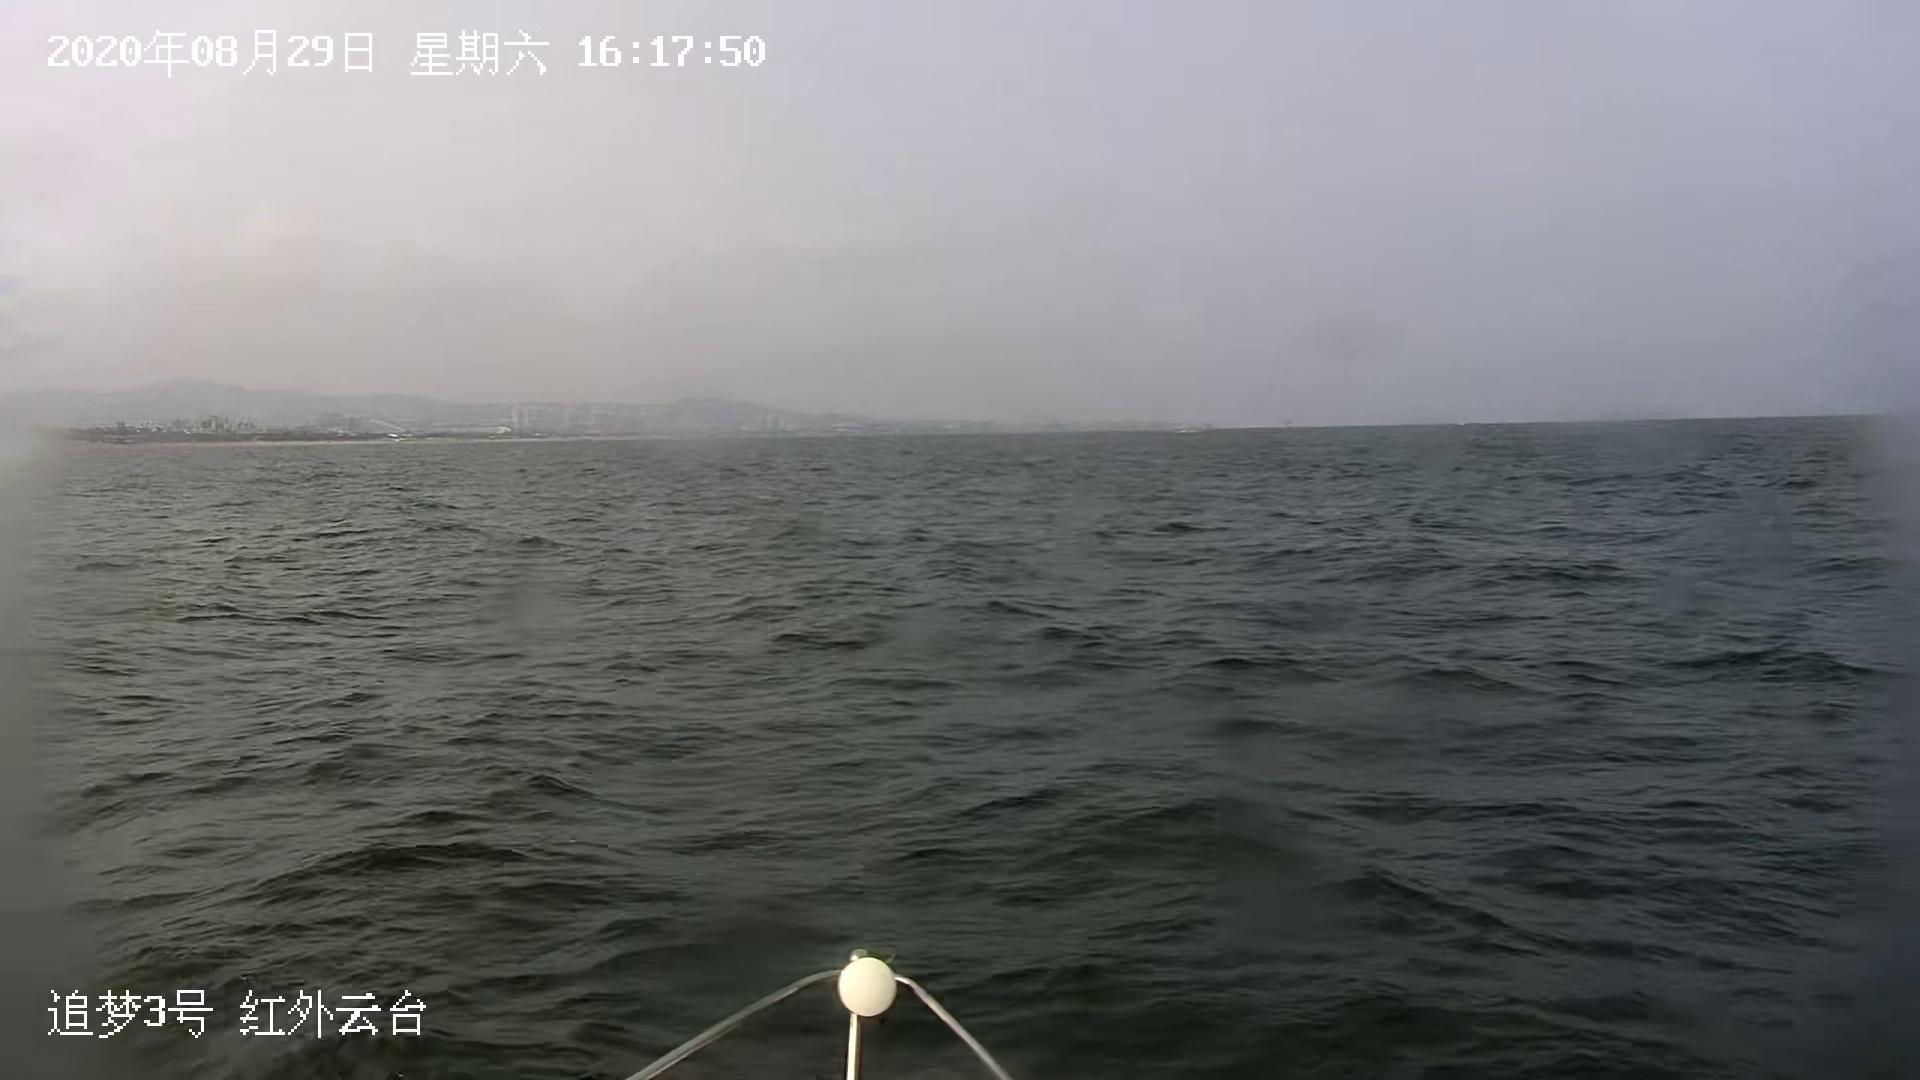coast: (18, 376, 1025, 443)
